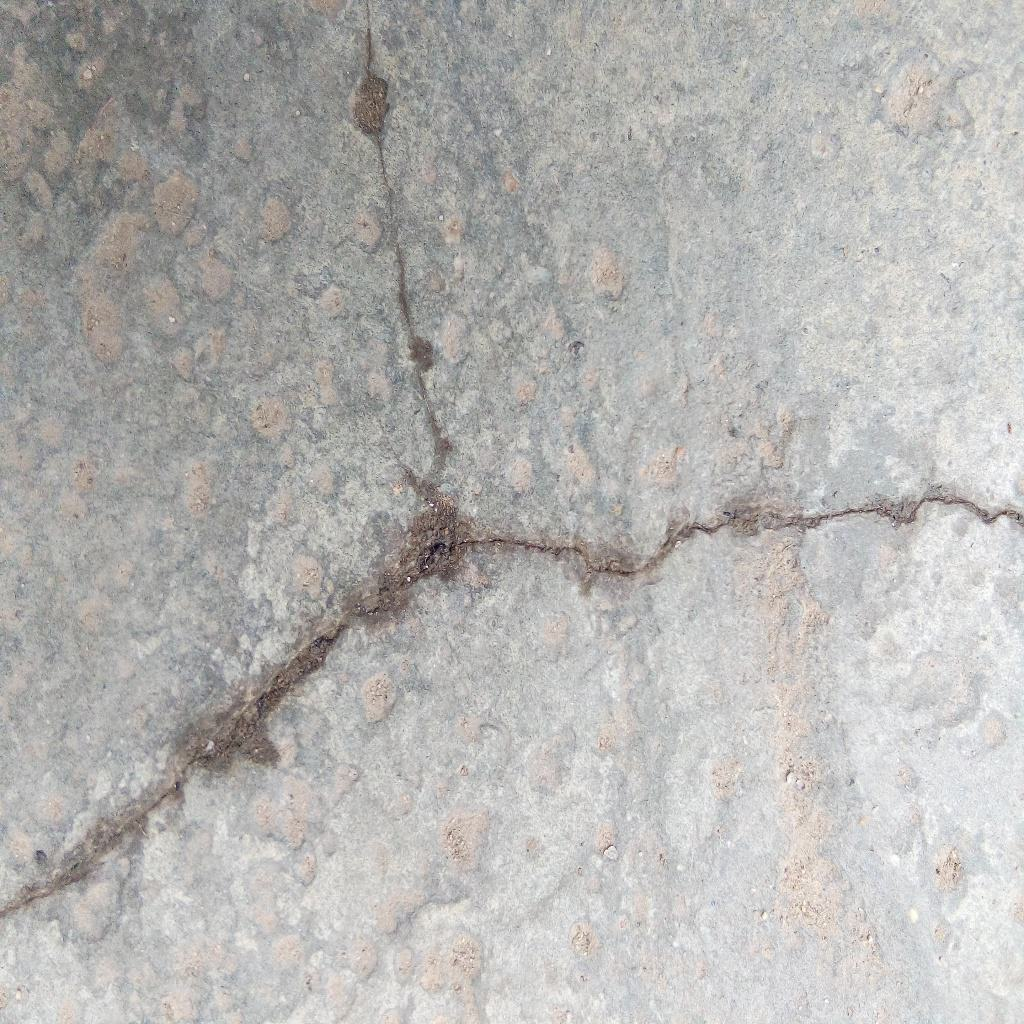Crack: (1, 547, 437, 917), (351, 1, 448, 547), (437, 496, 1024, 579)
